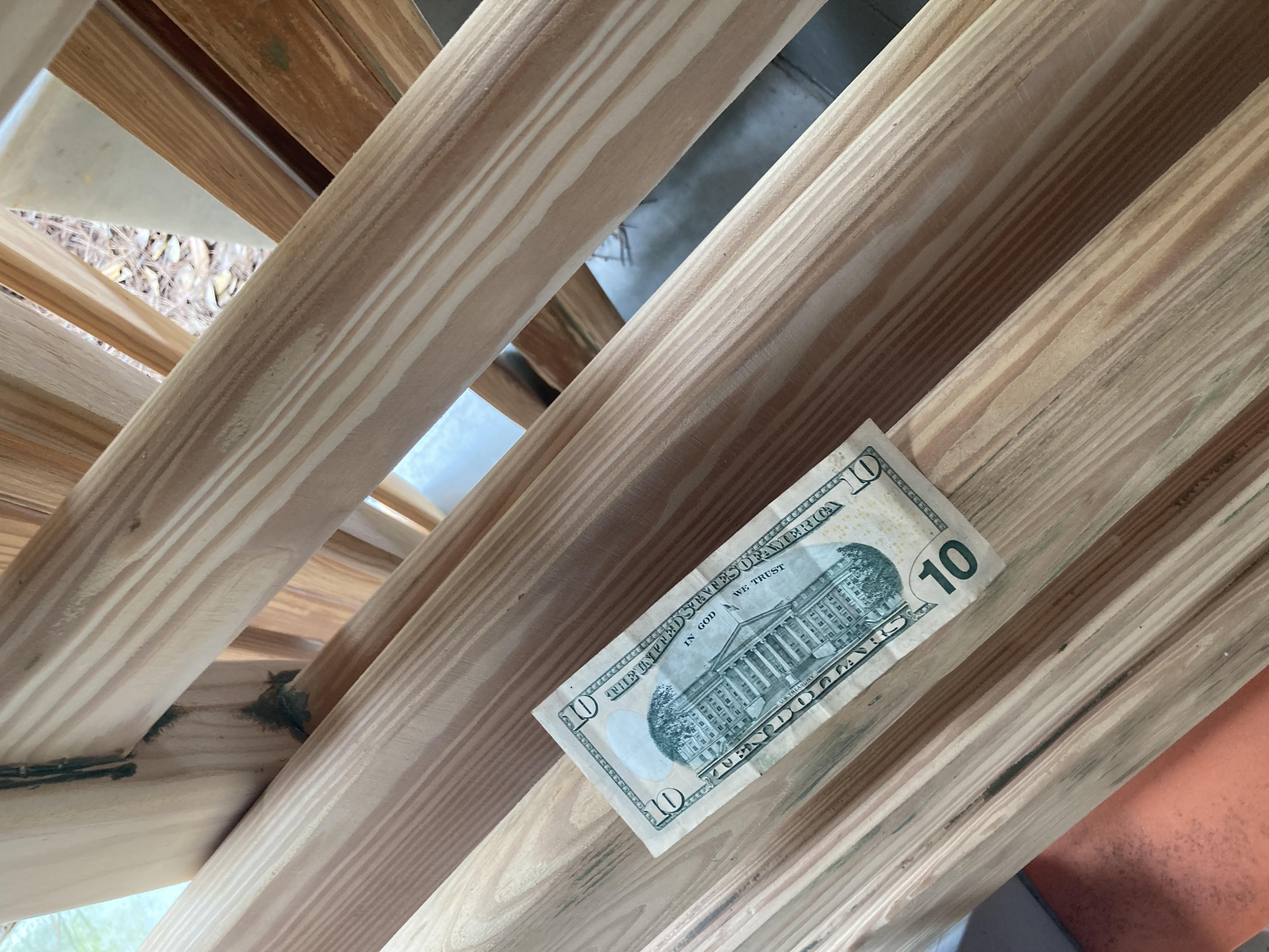ten-back: (124, 398, 720, 759)
